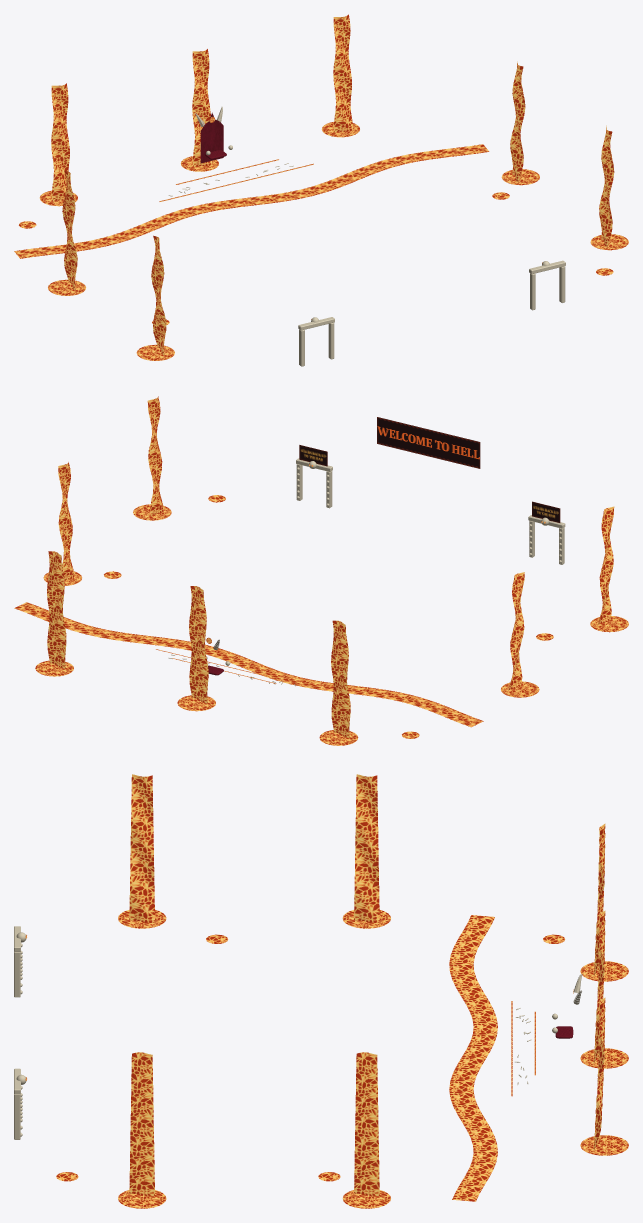
File: tb_hell_p2.glb
3 renders of one model, top to bottom at view 1: azimuth 30°, elevation 25°; view 2: azimuth 150°, elevation 25°; view 3: azimuth 270°, elevation 25°, orthographic. The views are drawn at different scales.
Visible parts, largest first — view 1: tb_hell_p2; view 2: tb_hell_p2; view 3: tb_hell_p2.
Part boxes in pixels (box(x1,y1,x2,y2)): tb_hell_p2: box(14, 14, 628, 366); tb_hell_p2: box(14, 396, 628, 745); tb_hell_p2: box(14, 774, 628, 1208).
Size of the model in its own units: 76 by 17 by 65.7.
6 materials, 4 textured.
